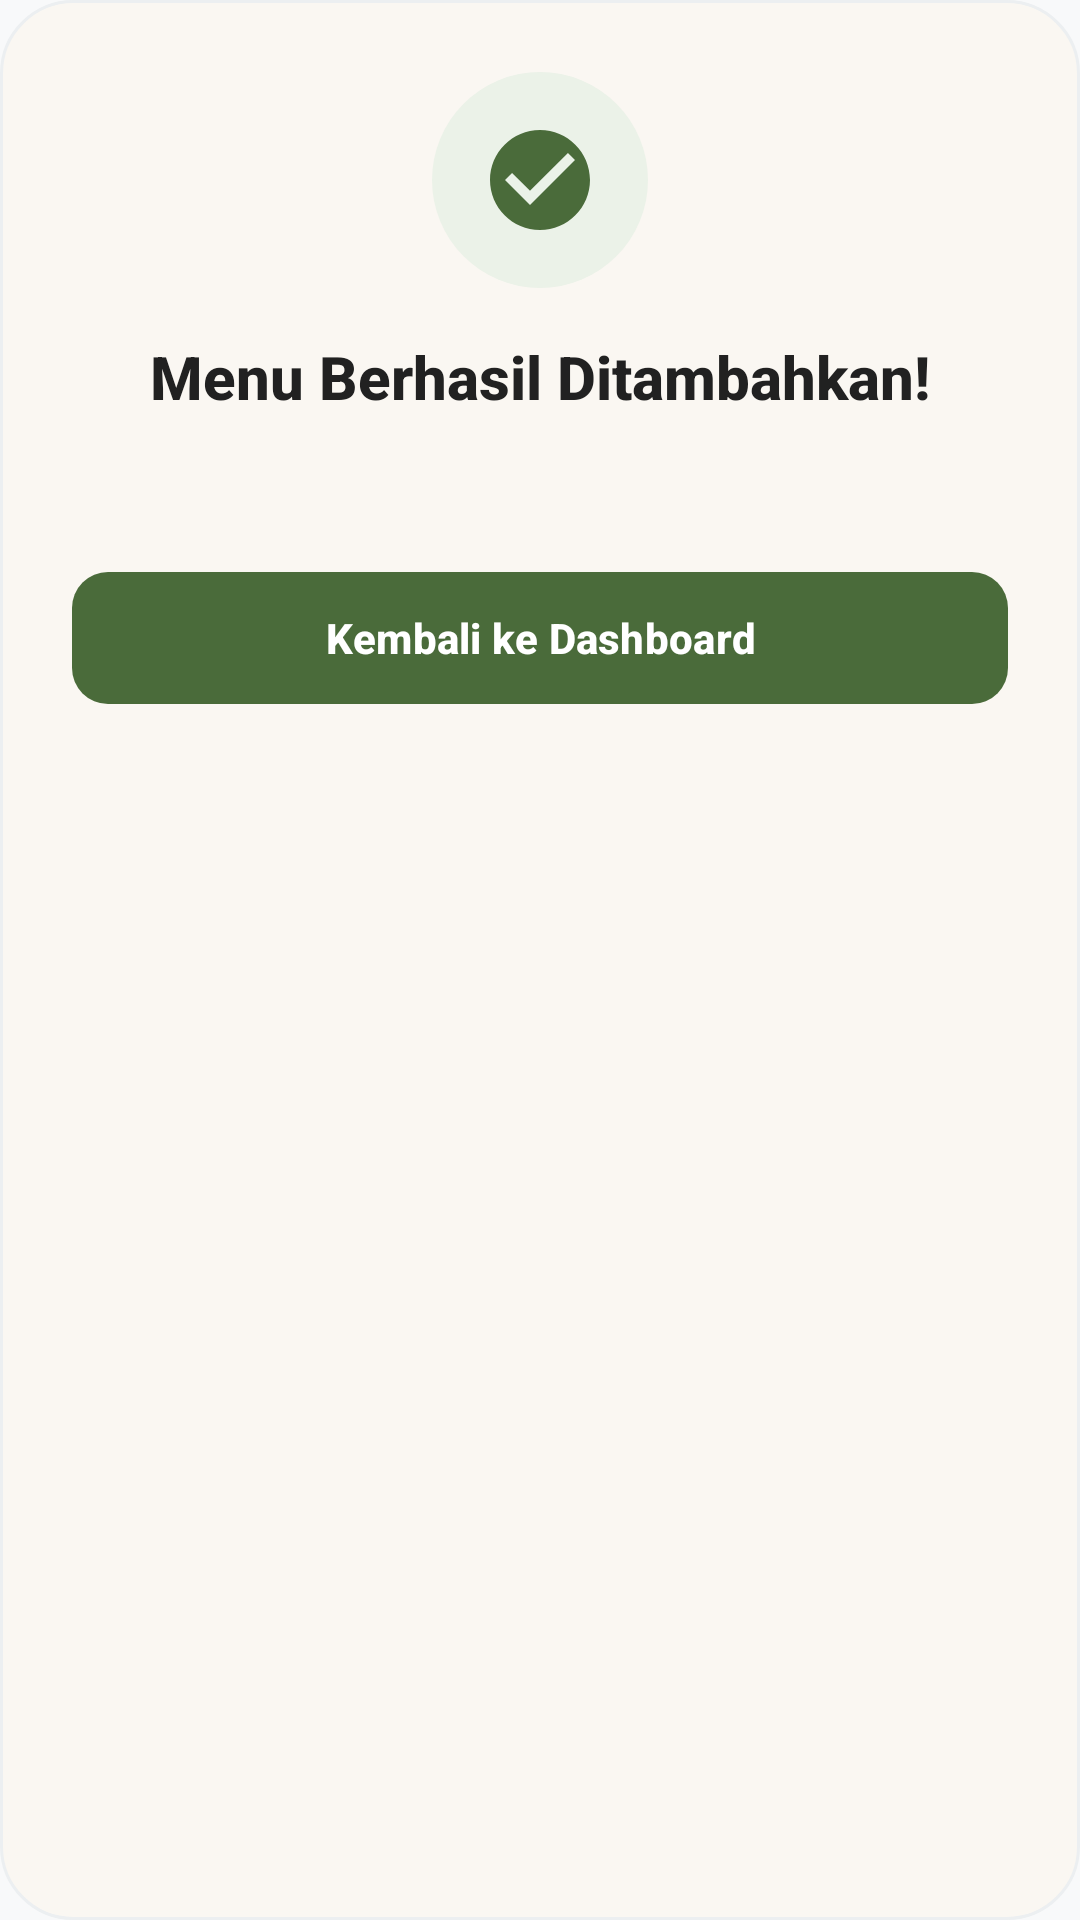

Icons on this 1080px×1920px Android screen, each with the point to tap as (x,y):
success editorial: (540,180)
